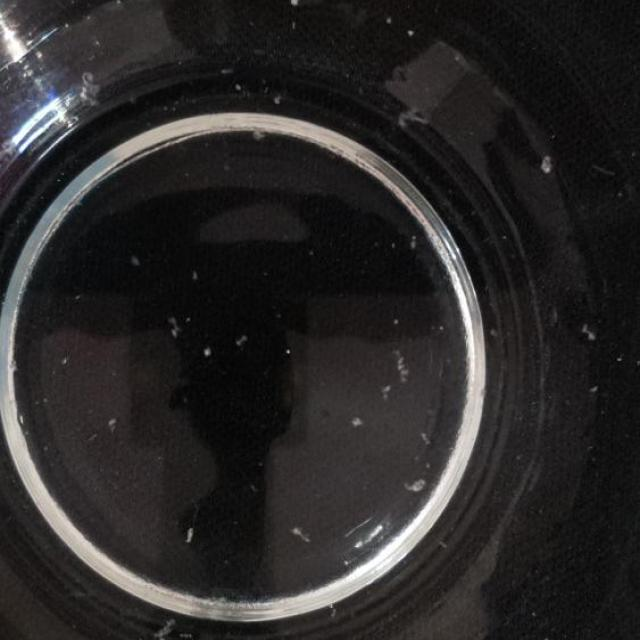fiber: (394, 103, 433, 131), (390, 342, 416, 383), (163, 313, 195, 342), (151, 616, 179, 640), (536, 150, 556, 180), (578, 321, 600, 347), (403, 474, 428, 496), (286, 526, 313, 546), (234, 330, 251, 355), (418, 429, 432, 449), (251, 127, 267, 144), (184, 523, 196, 545), (130, 255, 142, 275), (105, 416, 118, 432), (381, 383, 394, 399), (348, 414, 362, 427), (272, 94, 282, 107), (191, 269, 199, 285), (288, 0, 302, 9), (202, 346, 213, 357), (384, 15, 394, 27), (406, 27, 416, 39), (286, 347, 290, 356)
